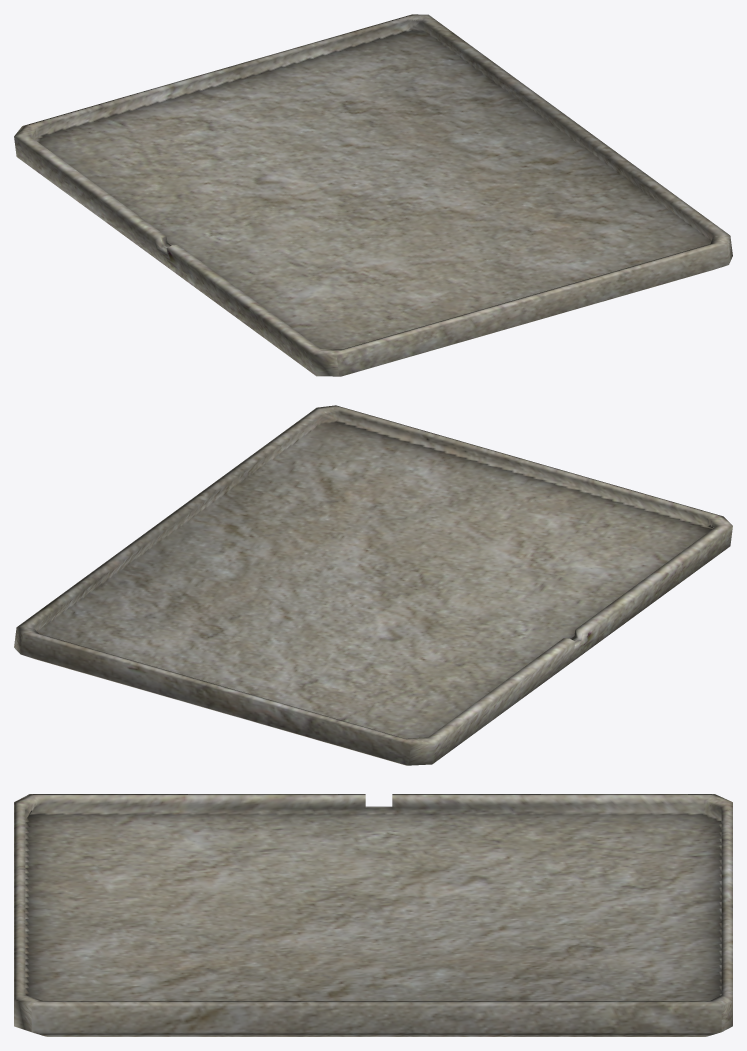
The model's file is Fountain_Trays_04.fbx.
3 views of the same model, one above another, from view 1: azimuth 30°, elevation 25°; view 2: azimuth 150°, elevation 25°; view 3: azimuth 270°, elevation 25° (orthographic). The views are drawn at different scales.
Parts seen in each view (by area): view 1: polySurface4; view 2: polySurface4; view 3: polySurface4.
Boxes of the visible parts, x1,y1,x2,y2 form: polySurface4: (14,14,732,376); polySurface4: (14,405,732,765); polySurface4: (14,794,732,1036).
Bounding box in the file's own units: 4.33 × 0.4639 × 5.61.
Materials: 1 (1 with a texture image).
